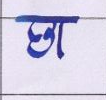aa_matra: (60, 22, 63, 57)
